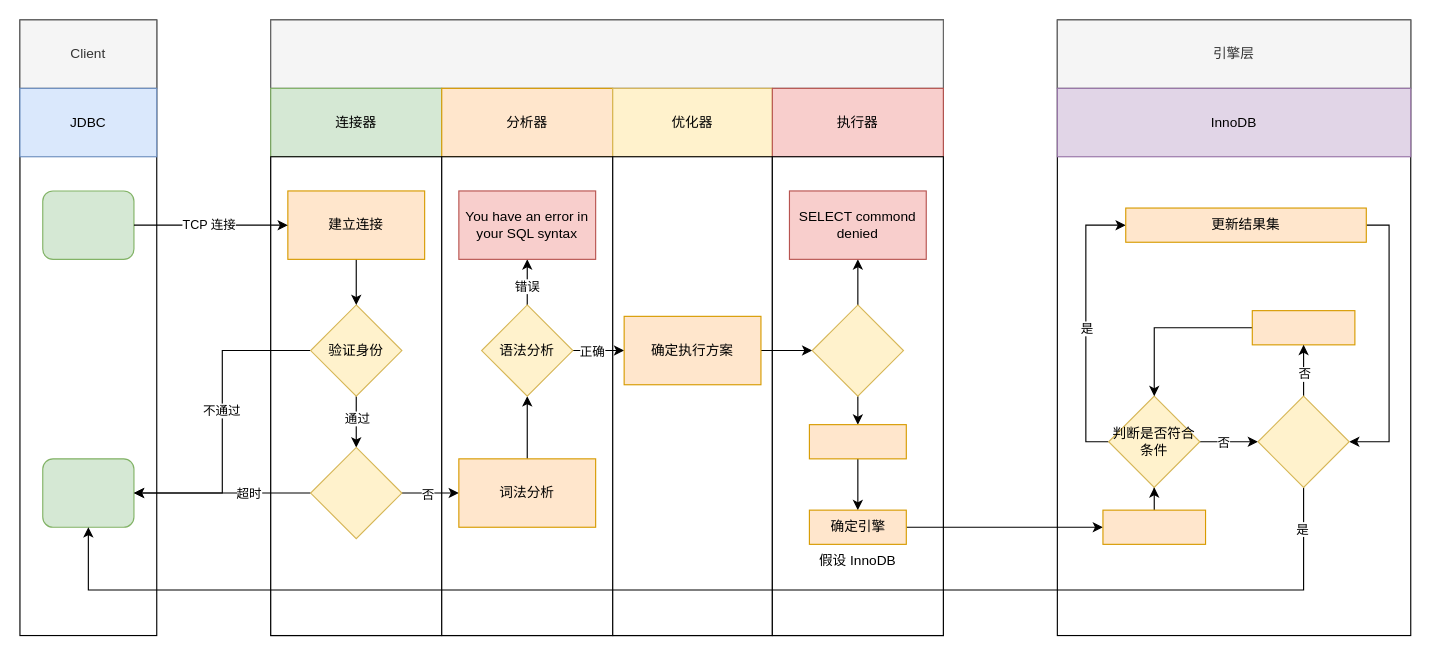
This 1431x656 diagram has some shape labels left out. The shapes that lost their labels are listed below. From the top down, each one's centre as x and y in pixels, then its label:
At (606,53): "Server".
At (88,224): "Start".
At (1303,327): "取表下一行".
At (857,350): "权限判断".
At (857,441): "打开表".
At (1303,441): "最后一行".
At (88,492): "End".
At (356,492): "空闲".
At (1154,526): "取表第 1 行".
